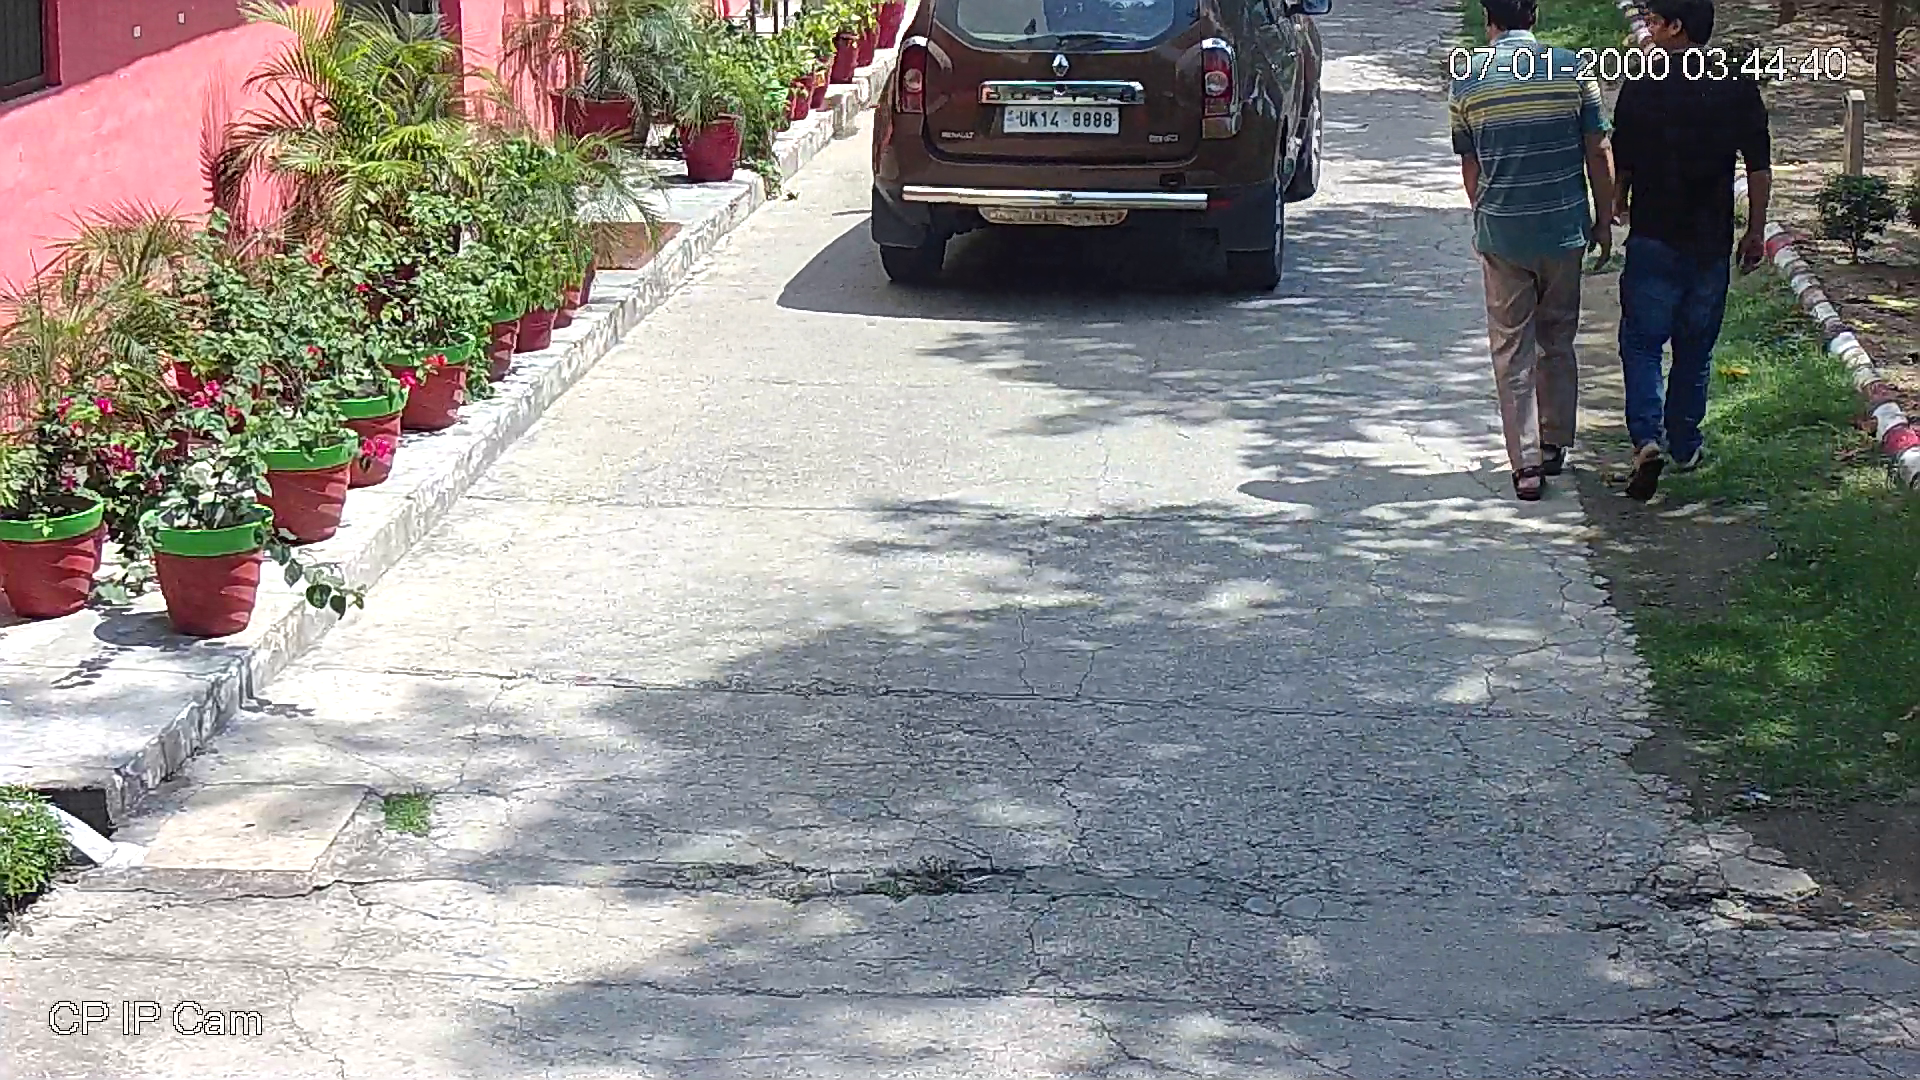plate: (999, 101, 1125, 136)
